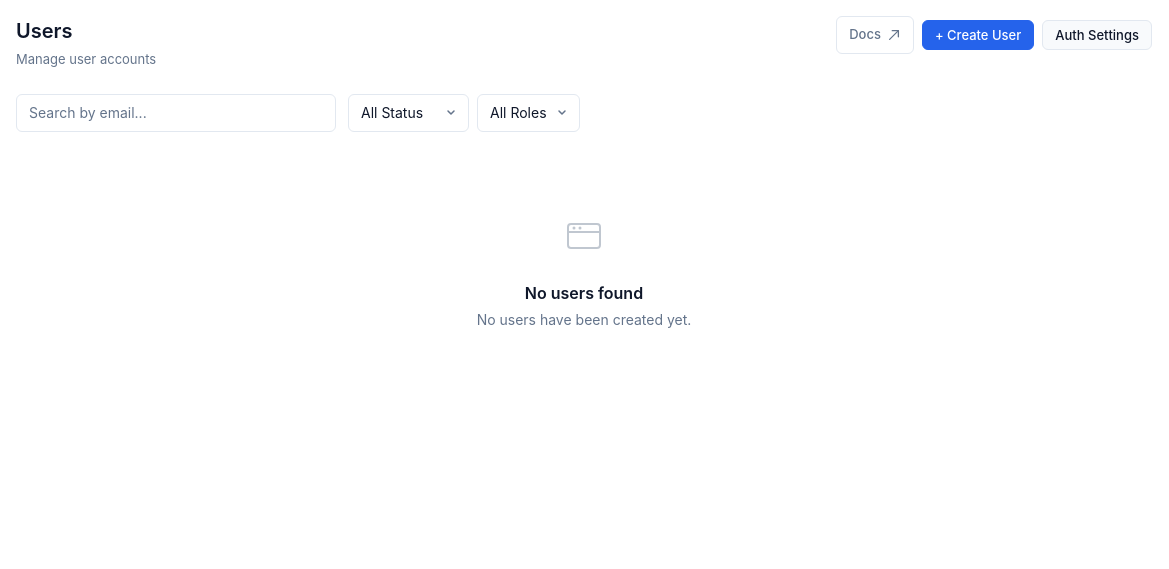
Scenario: auth page › debounces search requests and ignores stale responses that arrive late
The image size is (1169, 569).
Type "ali" into the field with placeholder "Search by email...". click: x=176, y=112
box: [16,94,336,132]
Wait 300 ms
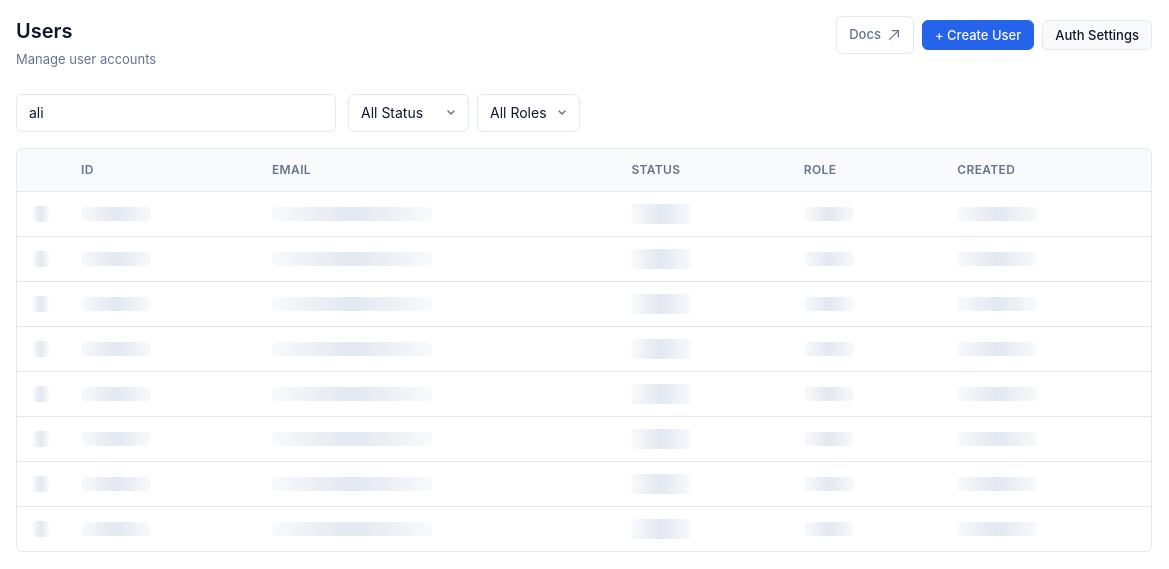
Replace the text in the field with placeholder "Search by email..." with "bob". click: x=176, y=112
box: [16,94,336,132]
Wait 450 ms
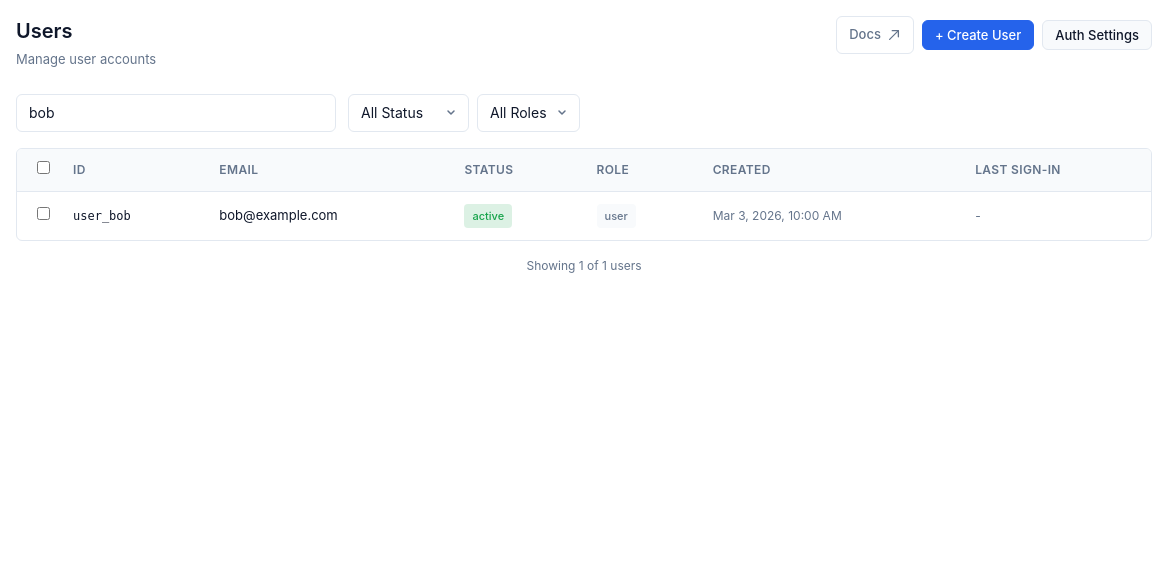
Result: the text "bob@example.com" is shown at [203,191,448,240]
